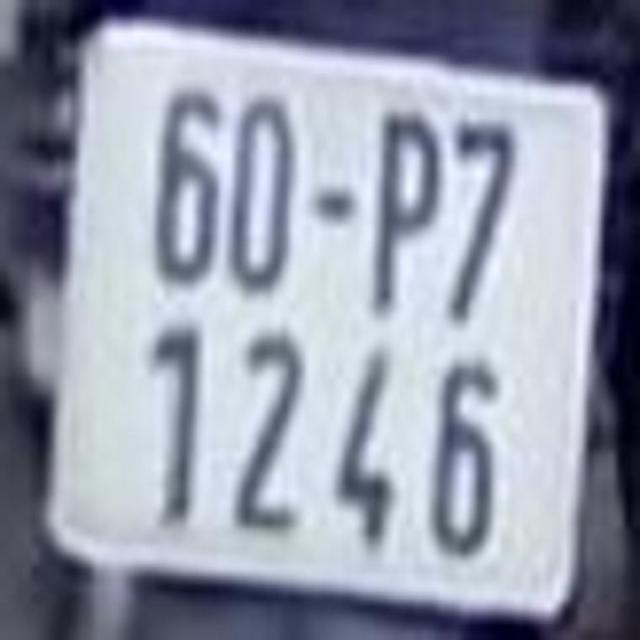0: (230, 93, 294, 290)
1: (157, 324, 198, 534)
2: (240, 329, 297, 529)
4: (344, 347, 404, 544)
6: (434, 362, 497, 561), (160, 93, 219, 284)
7: (449, 122, 512, 319)
P: (374, 114, 436, 316)
